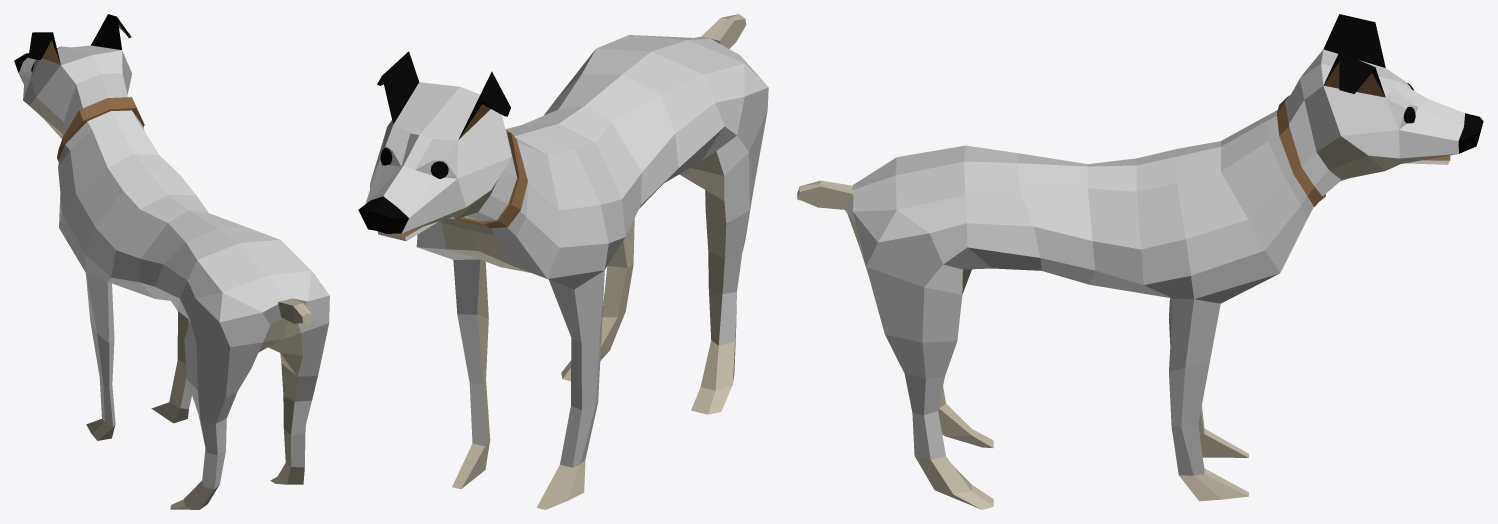
File: luna-dog.fbx
3 views of the same model, side by side, from view 1: azimuth 30°, elevation 25°; view 2: azimuth 150°, elevation 25°; view 3: azimuth 270°, elevation 25° (orthographic). The views are drawn at different scales.
Visible parts, largest first — view 1: luna-dog; view 2: luna-dog; view 3: luna-dog.
Boxes of the visible parts, x1,y1,x2,y2 form: luna-dog: (14,14,329,509); luna-dog: (358,14,768,509); luna-dog: (797,14,1483,509).
Bounding box in the file's own units: 188 × 530 × 745.
